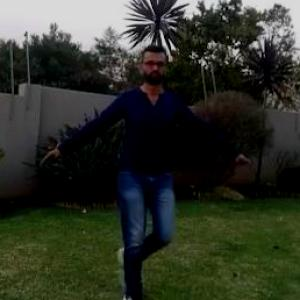land: (70, 69, 214, 245)
